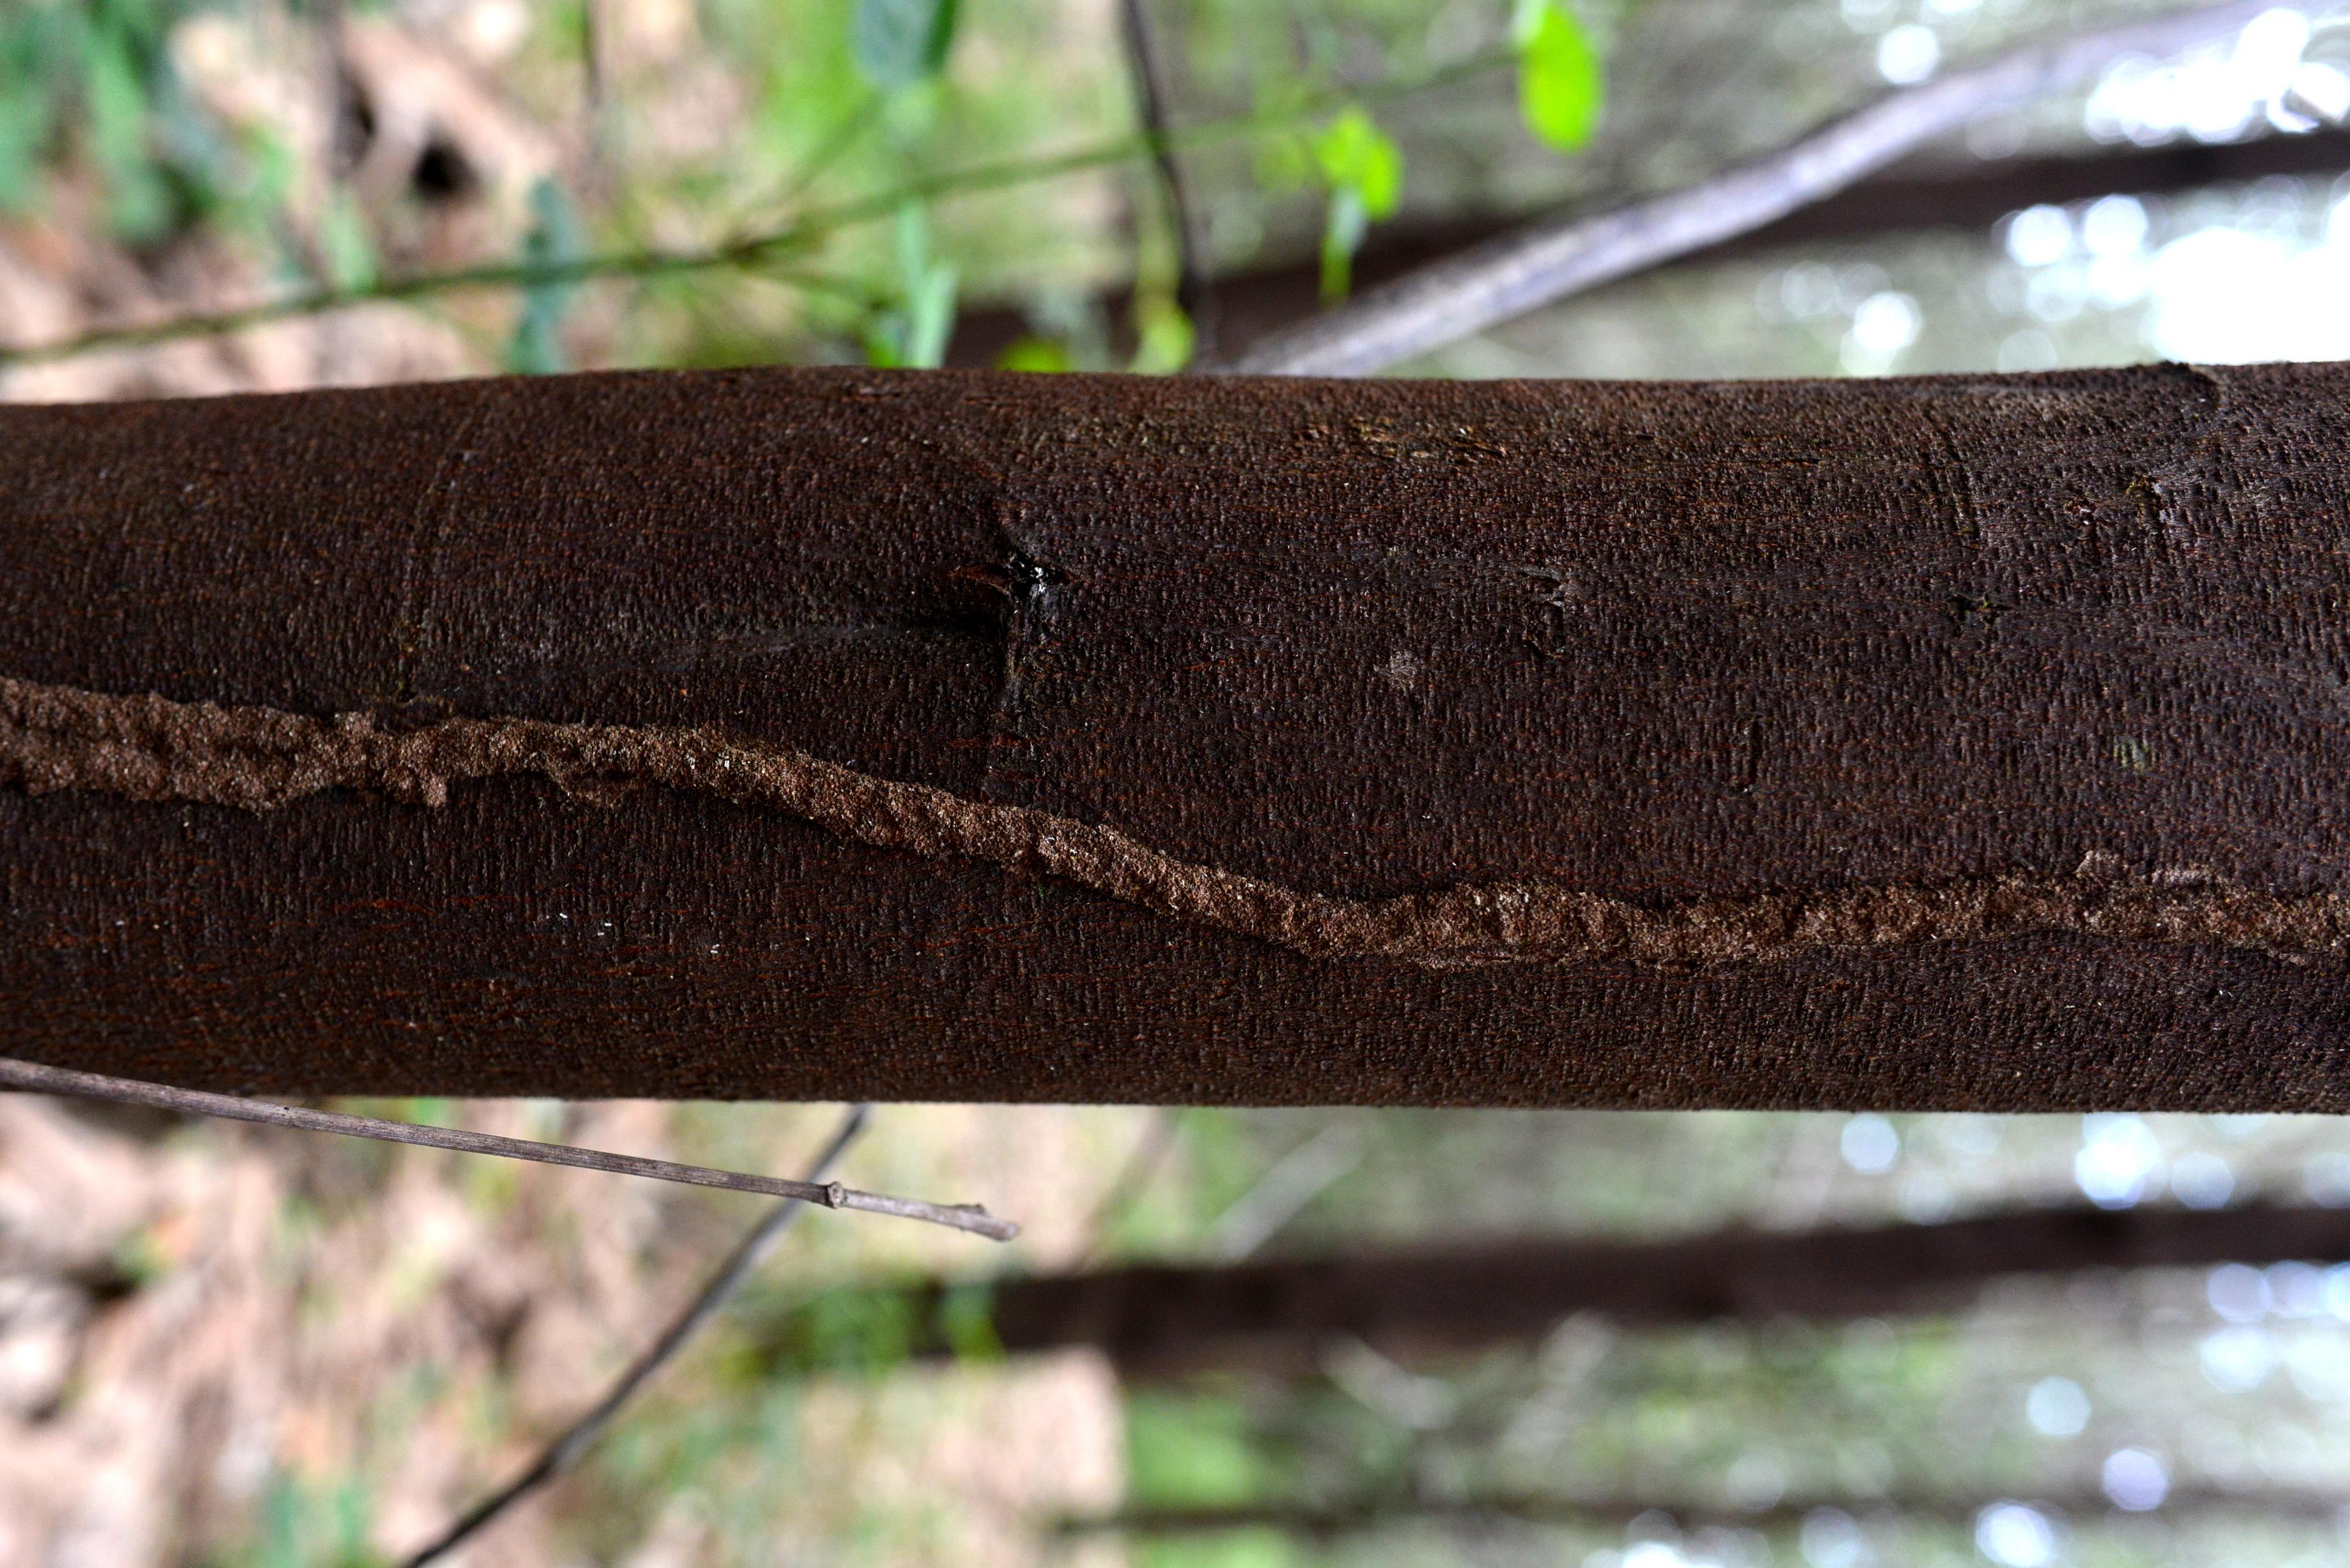Termite - Nest: (3, 649, 2350, 962)
